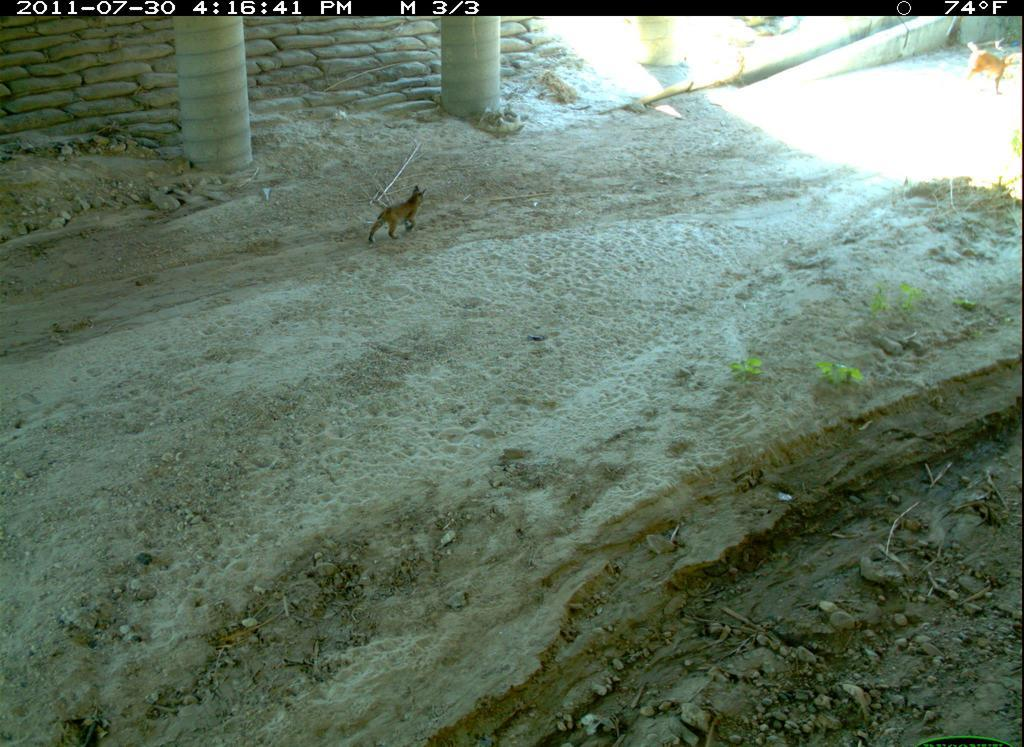bobcat: (358, 180, 445, 252), (957, 35, 1022, 102)
